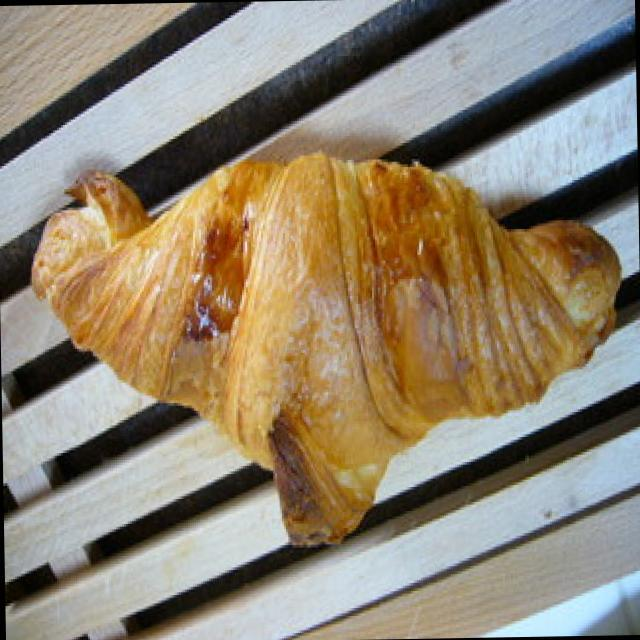Croissant: (28, 148, 640, 562)
